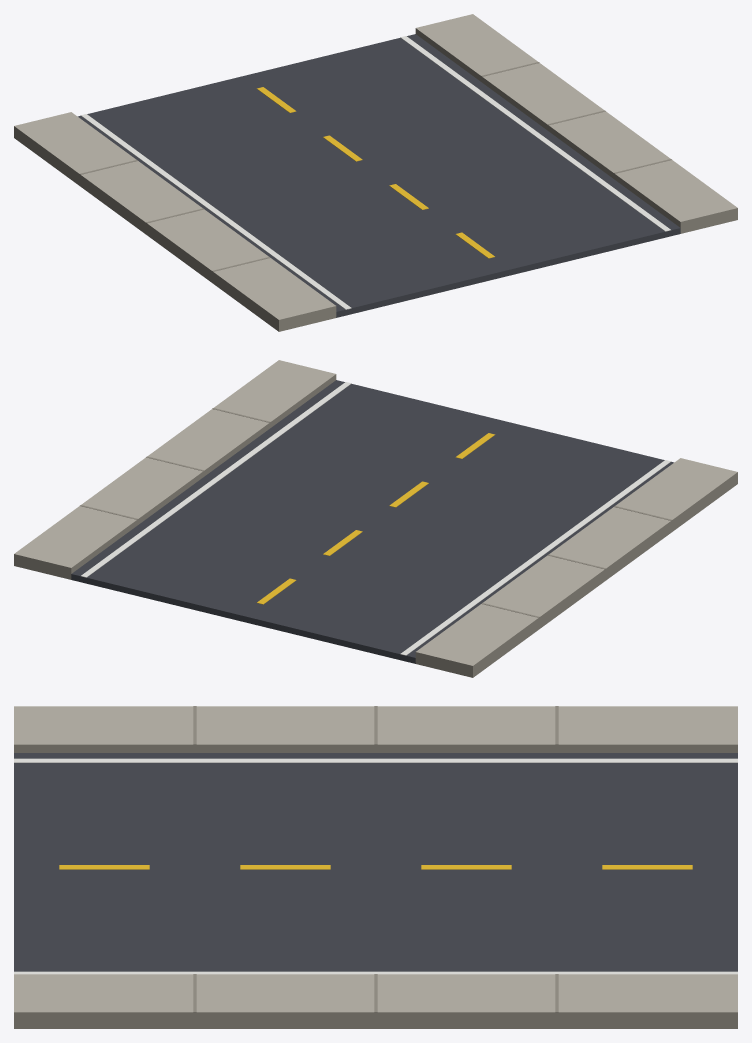
The model's file is Road_Straight.glb.
3 renders of one model, top to bottom at view 1: azimuth 30°, elevation 25°; view 2: azimuth 150°, elevation 25°; view 3: azimuth 270°, elevation 25°, orthographic. The views are drawn at different scales.
Parts seen in each view (by area): view 1: Road_Straight_Asphalt, Road_Straight_Sidewalk; view 2: Road_Straight_Asphalt, Road_Straight_Sidewalk; view 3: Road_Straight_Asphalt, Road_Straight_Sidewalk.
Boxes of the visible parts, x1,y1,x2,y2 form: Road_Straight_Asphalt: [78, 34, 680, 317]; Road_Straight_Sidewalk: [14, 14, 737, 331]; Road_Straight_Asphalt: [71, 380, 673, 663]; Road_Straight_Sidewalk: [14, 360, 737, 677]; Road_Straight_Asphalt: [14, 753, 737, 974]; Road_Straight_Sidewalk: [14, 706, 737, 1028].
Size of the model in its own units: 11.2 by 0.285 by 11.2.
Materials: 1 (1 with a texture image).
